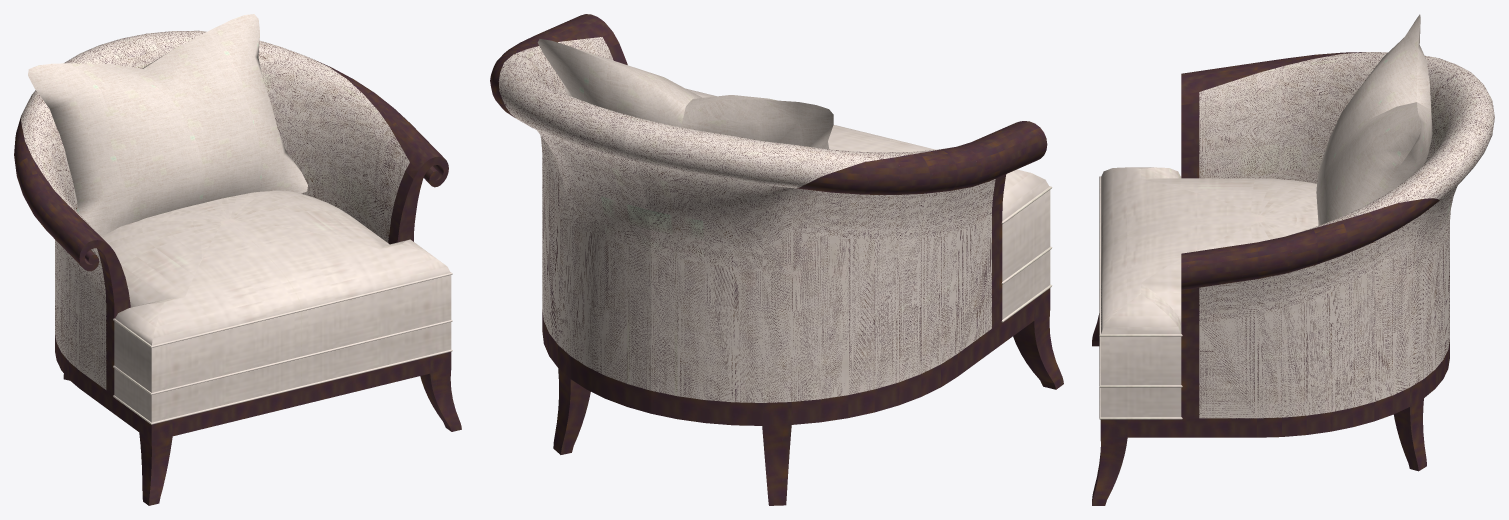
Rendered from Master Chair-001.dae.
3 views of the same model, side by side, from view 1: azimuth 30°, elevation 25°; view 2: azimuth 150°, elevation 25°; view 3: azimuth 270°, elevation 25° (orthographic). The views are drawn at different scales.
Parts seen in each view (by area): view 1: group_4 (×2), group_3 (×4), group_0, group_2 (×2), group_1 (×2), 群组_2 (×2), group_6, group_5, group_7; view 2: group_3 (×4), group_0, group_1 (×2), group_4, group_8 (×2), 群组_2, group_2; view 3: group_3 (×4), group_4 (×2), group_0, group_1, group_2, 群组_2, group_8.
Part boxes in pixels (x1,y1,x2,y2): group_4 (×2): (102, 190, 451, 392); group_3 (×4): (14, 30, 448, 395); group_0: (28, 14, 307, 237); group_2 (×2): (114, 322, 451, 422); group_1 (×2): (55, 335, 430, 436); 群组_2 (×2): (139, 352, 461, 505); group_6: (113, 309, 301, 347); group_5: (113, 356, 301, 394); group_7: (113, 386, 301, 424); group_3 (×4): (490, 14, 1047, 402); group_0: (537, 39, 833, 149); group_1 (×2): (542, 300, 1034, 425); group_4: (828, 127, 1050, 281); group_8 (×2): (553, 345, 791, 505); 群组_2: (1013, 288, 1063, 389); group_2: (1002, 250, 1050, 319); group_3 (×4): (1181, 52, 1494, 418); group_4 (×2): (1100, 167, 1318, 385); group_0: (1316, 14, 1432, 225); group_1: (1127, 340, 1449, 437); group_2: (1100, 387, 1181, 417); 群组_2: (1092, 419, 1127, 505); group_8: (1393, 379, 1426, 471).
Bounding box in the file's own units: 41.89 × 36.61 × 34.57.
Materials: 3 (3 with a texture image).
